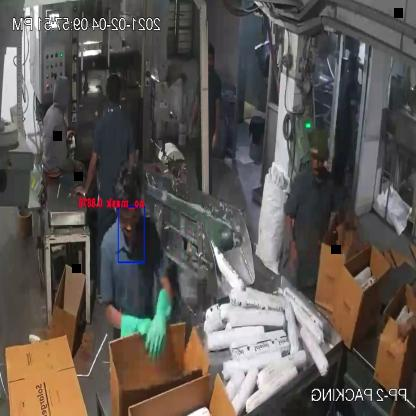glove: (144, 281, 178, 362), (119, 300, 162, 346)
no_glove: (278, 190, 307, 279), (72, 140, 99, 200), (334, 191, 358, 256), (207, 90, 223, 158), (393, 309, 416, 350), (185, 90, 201, 146)
